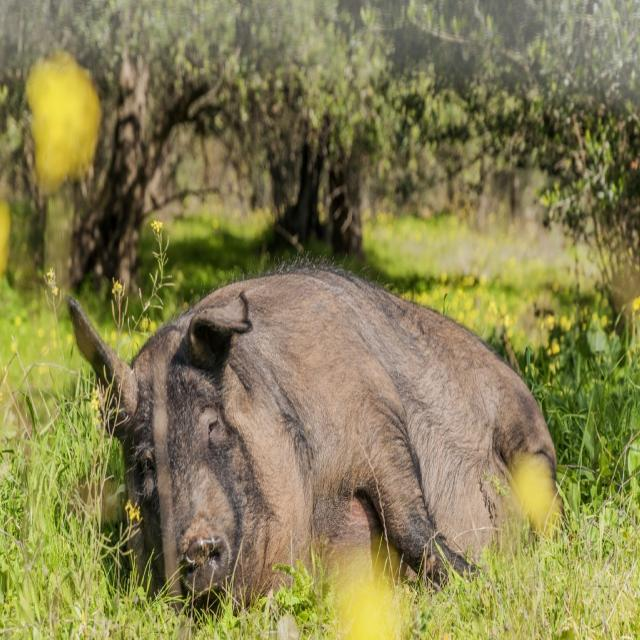Pig: (64, 250, 575, 630)
